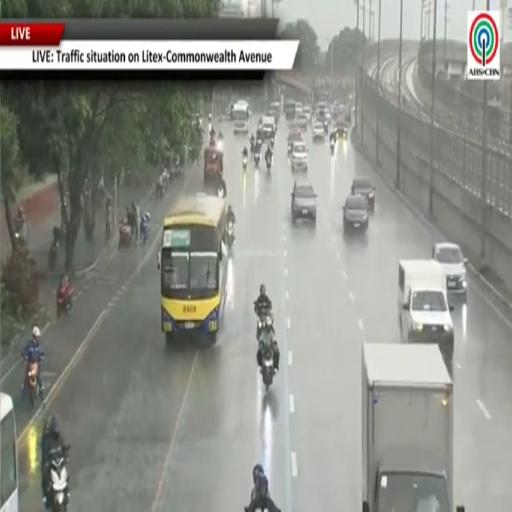bus: (159, 195, 227, 345), (0, 393, 18, 511), (232, 101, 250, 133), (284, 100, 296, 120)
car: (432, 242, 467, 297), (291, 178, 317, 222), (343, 195, 368, 232), (351, 178, 375, 212), (291, 141, 308, 170), (261, 116, 275, 139), (288, 131, 302, 154), (334, 119, 347, 139), (312, 122, 325, 141), (295, 114, 308, 131), (303, 106, 311, 122), (324, 111, 332, 124)
motorcycle: (50, 454, 68, 511), (26, 361, 40, 409), (261, 348, 274, 392), (57, 282, 73, 317), (257, 310, 273, 341), (119, 222, 133, 249), (140, 213, 150, 245), (48, 239, 58, 270), (227, 221, 235, 249), (217, 179, 226, 198), (156, 183, 165, 199), (266, 157, 272, 172), (255, 151, 260, 168), (330, 139, 335, 155), (243, 156, 247, 171), (270, 136, 275, 148), (324, 121, 328, 134), (251, 140, 254, 154)
truck: (362, 343, 453, 511), (398, 260, 454, 373)
